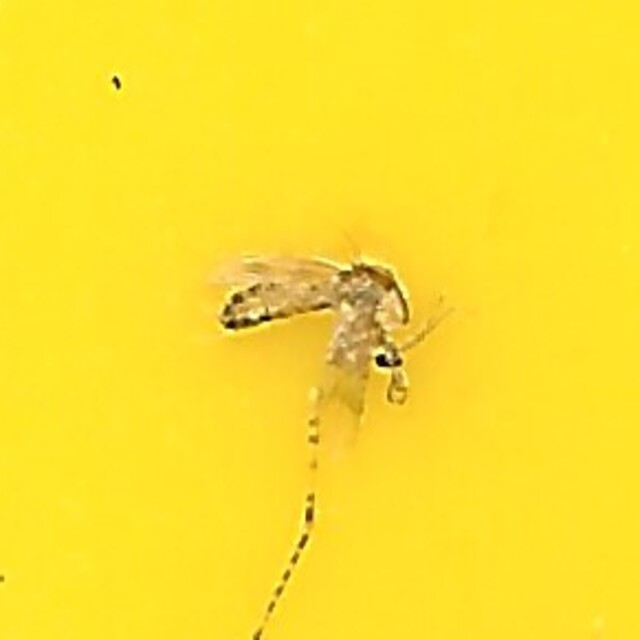Nematocera: (220, 253, 420, 387)
